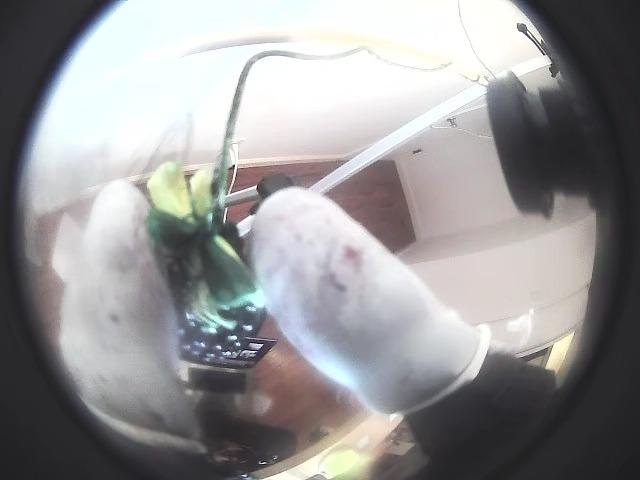berry: (147, 162, 263, 363)
gripper: (250, 187, 489, 413), (61, 181, 201, 450)
lense: (0, 0, 149, 479), (492, 0, 639, 479)
